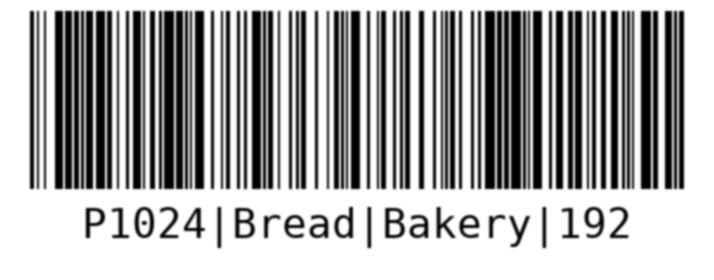milk: (26, 8, 687, 259)
